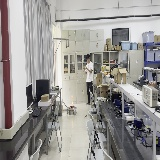fire: (69, 94, 74, 108)
